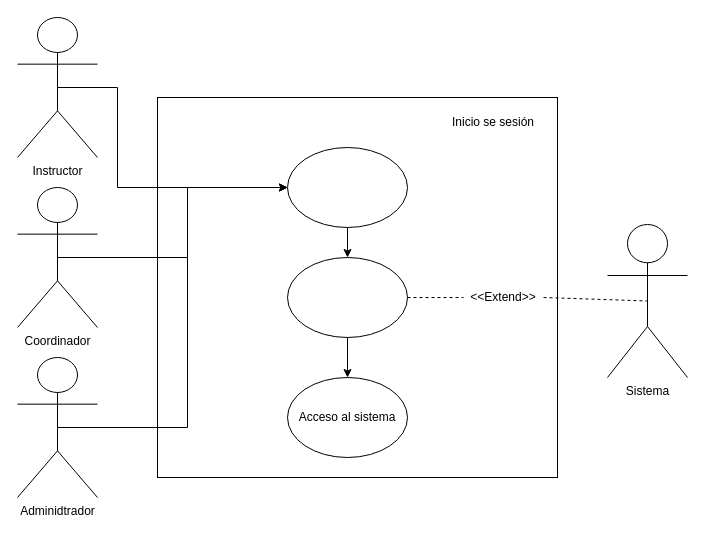
This 705x536 diagram has some shape labels left out. Here are the shapes that lost their labels. From the top down, the box of each, then its label:
(286, 146, 408, 228): Ingreso de datos personales
(286, 256, 408, 338): Validación de datos
